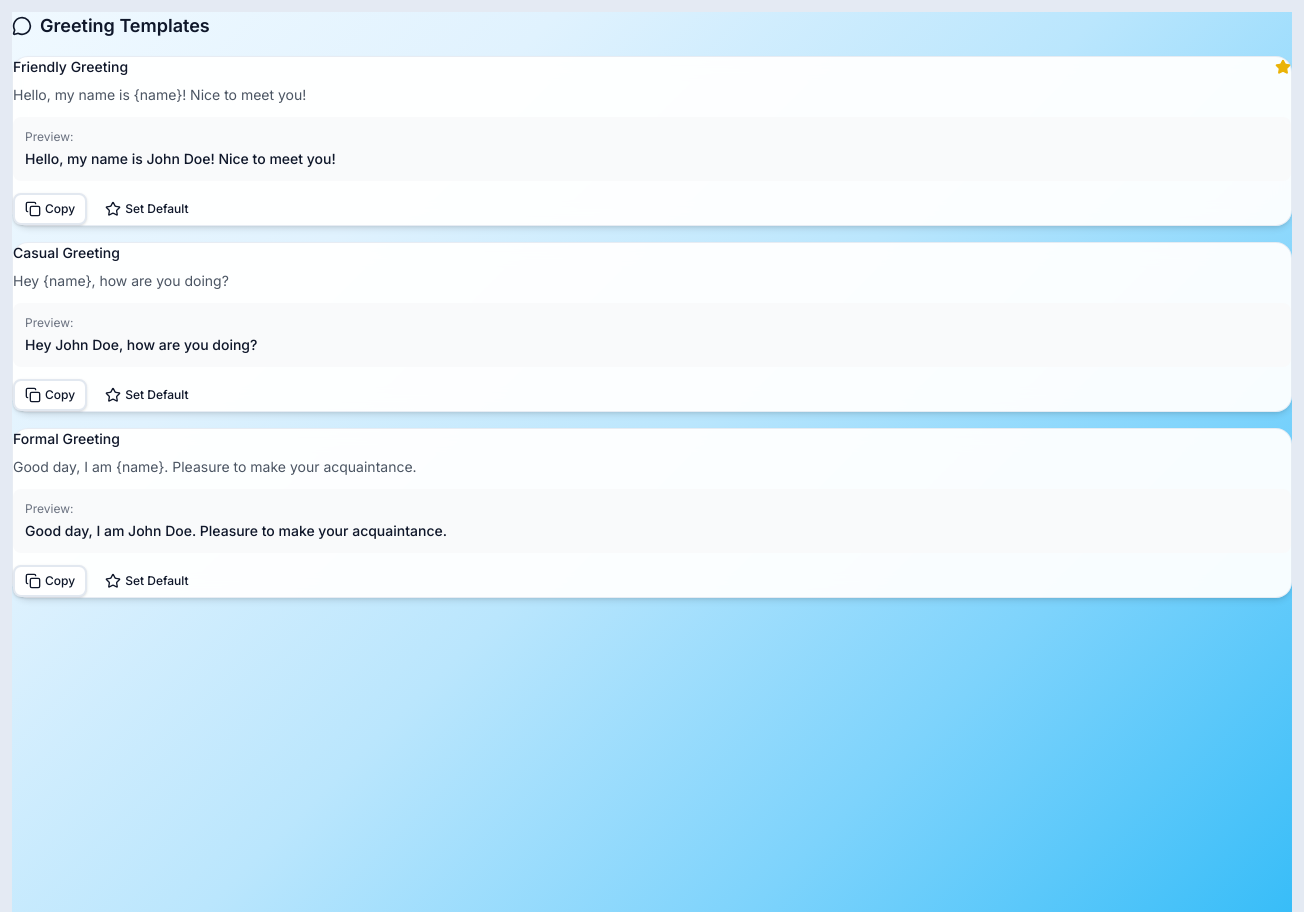
GreetingTemplate › User Interactions › copies template to clipboard when copy button is clicked
Click the button "Copy" below "Friendly Greeting" at (50, 209), box [13,193,87,225]
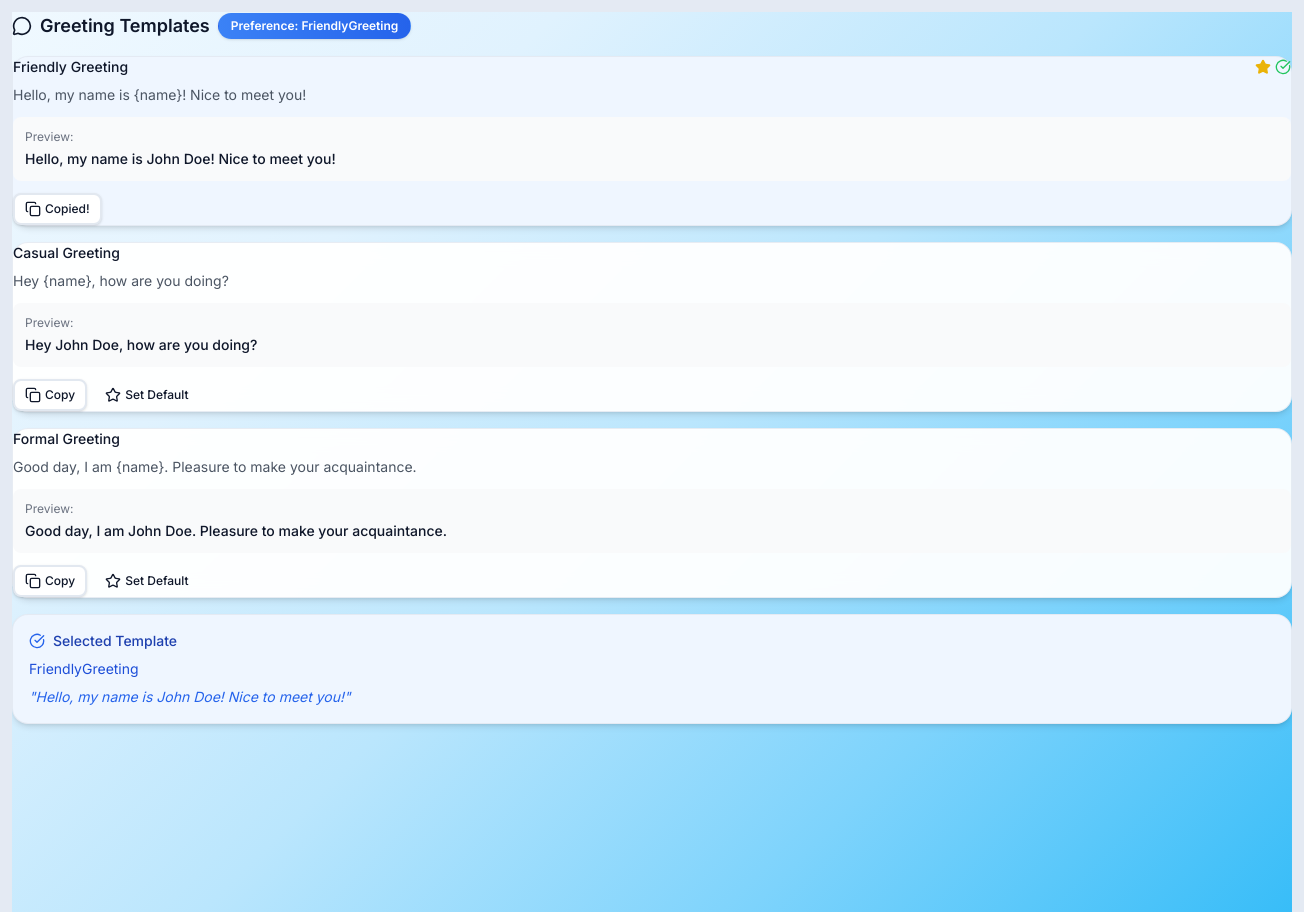
Expected: the button "Copied!" is shown, [13,193,102,225]
